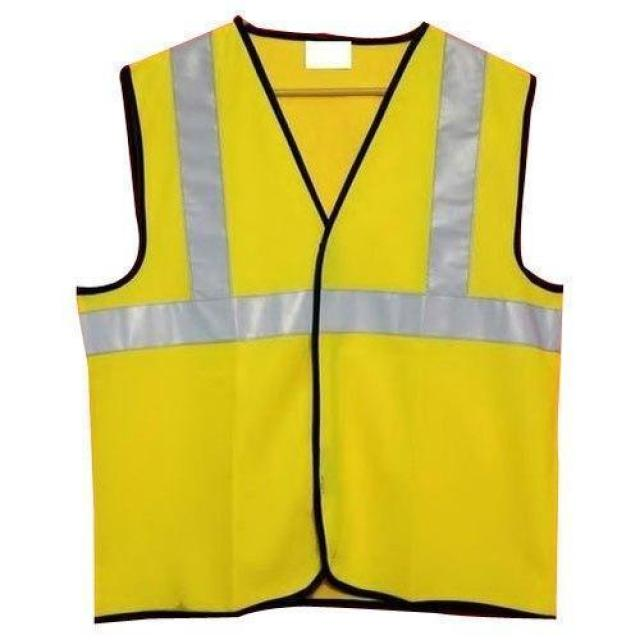Vest: (73, 15, 562, 622)
